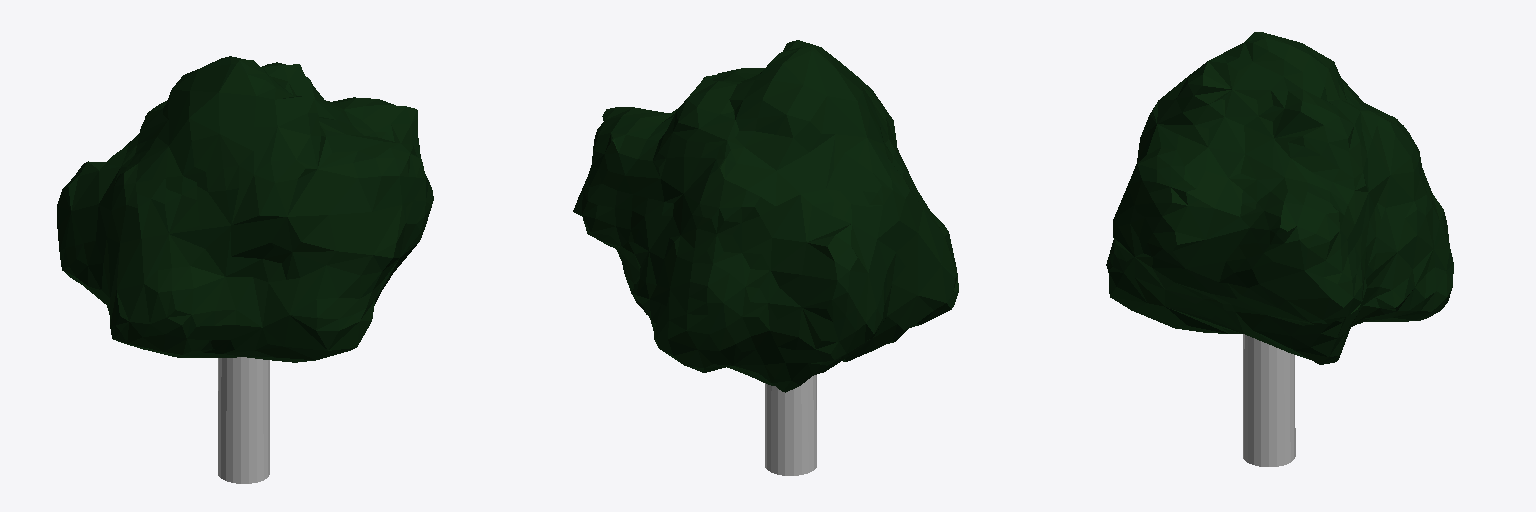
The model's file is Tree.obj.
The picture shows the model from 3 angles: view 1: azimuth 30°, elevation 25°; view 2: azimuth 150°, elevation 25°; view 3: azimuth 270°, elevation 25°; orthographic projection.
Visible parts, largest first — view 1: Cylinder.017_Cylinder.010; view 2: Cylinder.017_Cylinder.010; view 3: Cylinder.017_Cylinder.010.
Part boxes in pixels (left/top/right/bottom): Cylinder.017_Cylinder.010: left=57, top=56, right=433, bottom=483; Cylinder.017_Cylinder.010: left=573, top=40, right=958, bottom=475; Cylinder.017_Cylinder.010: left=1106, top=32, right=1453, bottom=466.
Size of the model in its own units: 6.41 by 7.79 by 5.88.